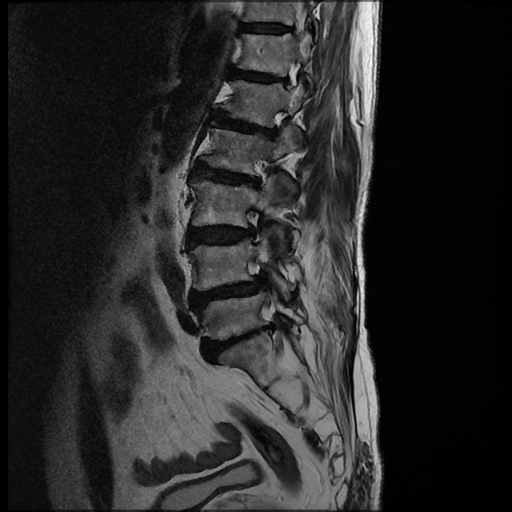LFS1: (232, 199, 270, 249)
